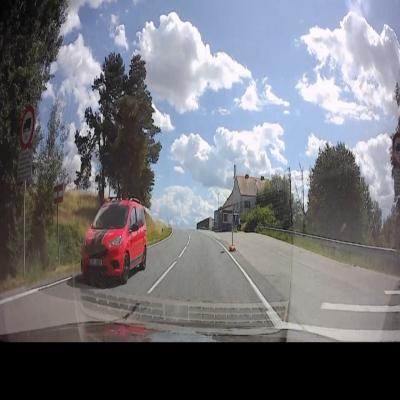clear-road: (150, 229, 259, 302), (115, 230, 188, 296)
